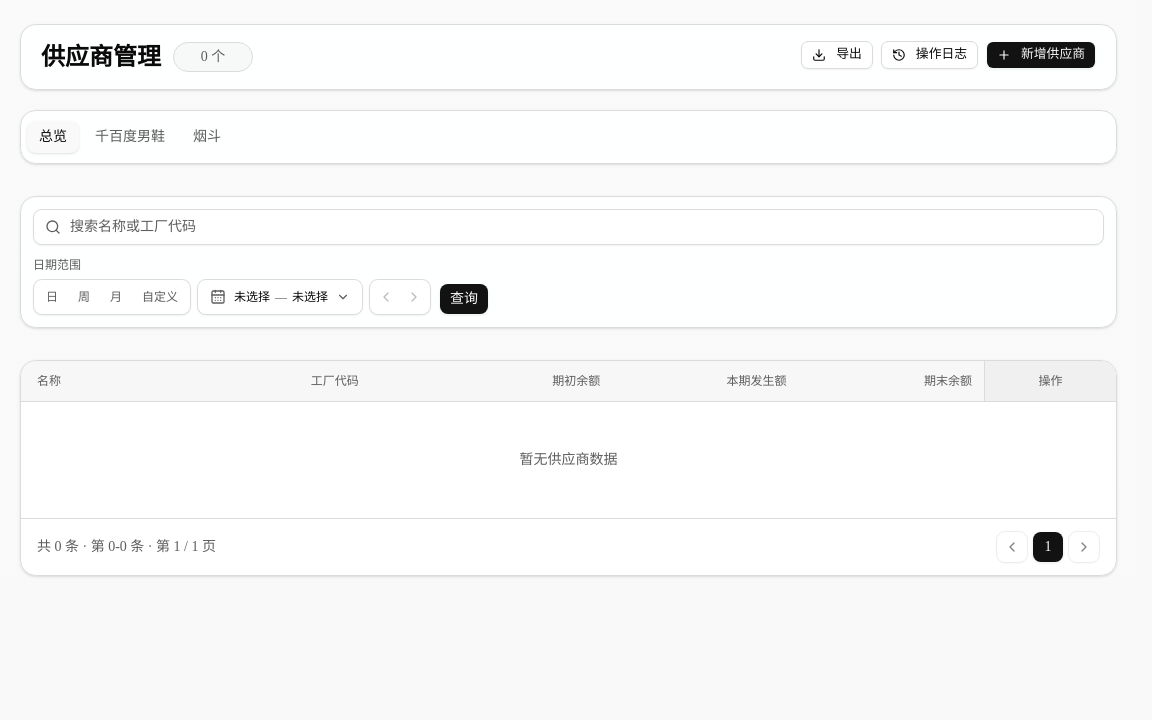
it: supplier management starts at overview and new suppliers still get a valid brand
Expected: the tab "总览" is shown, [27, 121, 79, 153]
Expected: the tab "千百度男鞋" is shown, [83, 121, 177, 153]
Step 1. Click the button "新增供应商" → x=1041, y=55, box [986, 41, 1096, 69]
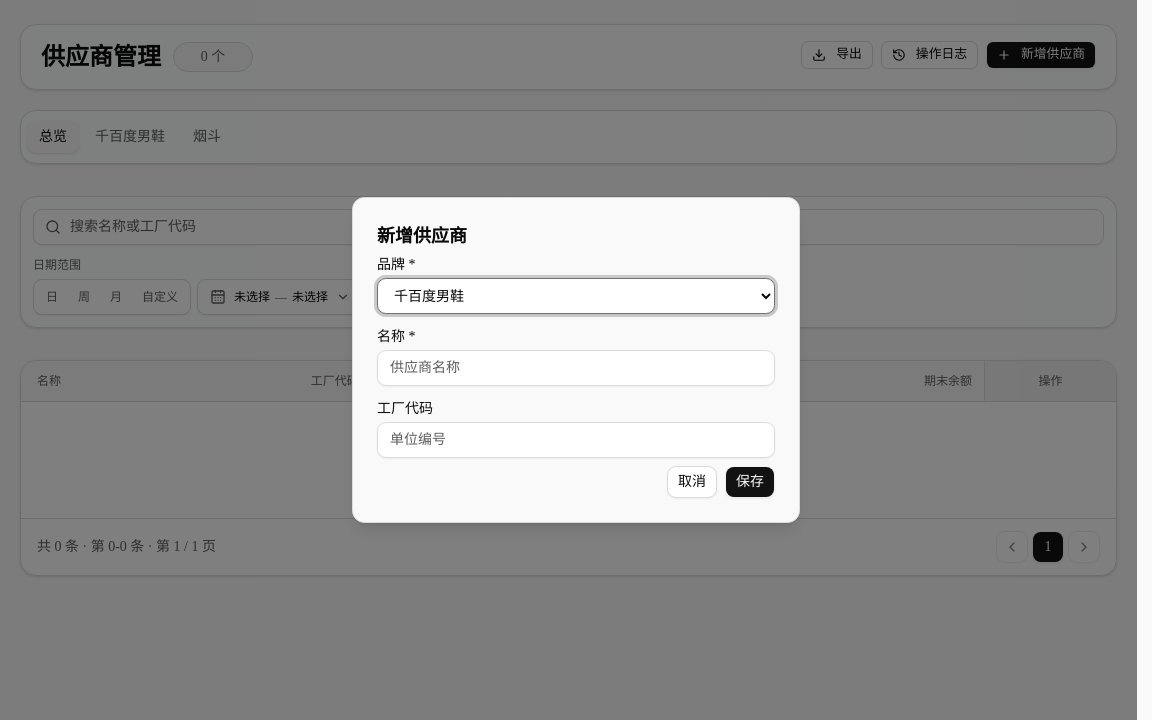
Result: the dropdown labelled "品牌 *" shows "千百度男鞋" at [377, 278, 775, 314]
